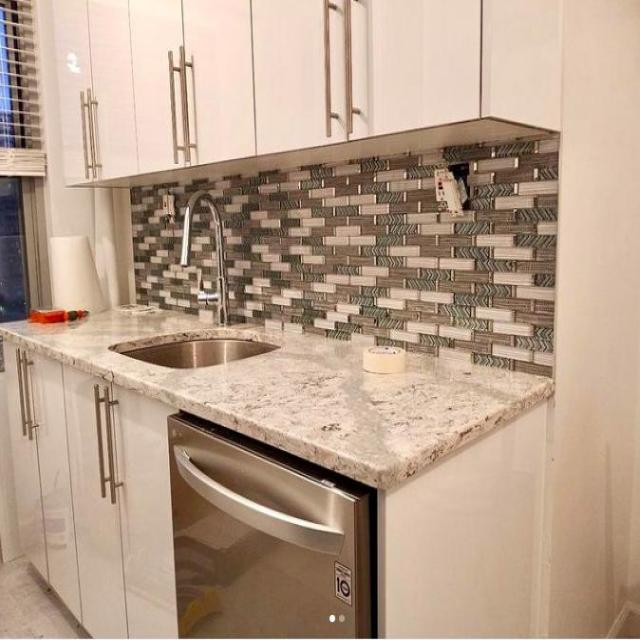dishwasher: (166, 404, 374, 639)
